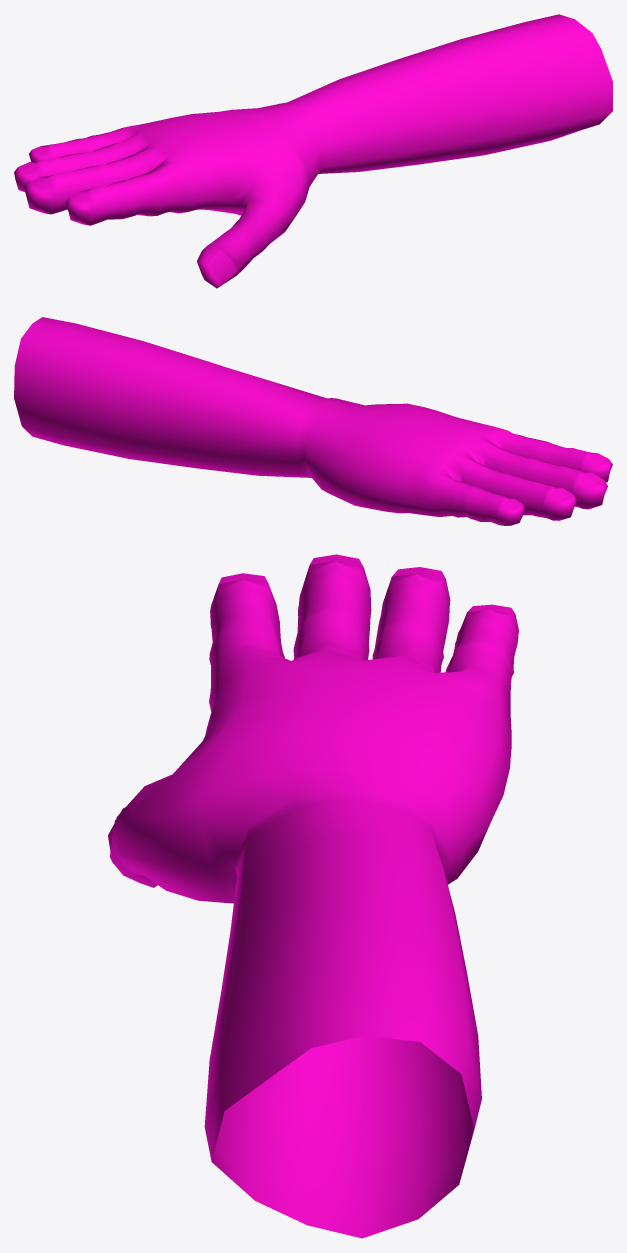
Rendered from Globe.fbx.
3 renders of one model, top to bottom at view 1: azimuth 30°, elevation 25°; view 2: azimuth 150°, elevation 25°; view 3: azimuth 270°, elevation 25°, orthographic. The views are drawn at different scales.
Parts seen in each view (by area): view 1: arm001; view 2: arm001; view 3: arm001.
Part boxes in pixels (x1=…): arm001: x1=14, y1=14, x2=612, y2=288; arm001: x1=14, y1=317, x2=612, y2=525; arm001: x1=108, y1=554, x2=518, y2=1238.
Size of the model in its own units: 13.19 by 2.86 by 4.19.
